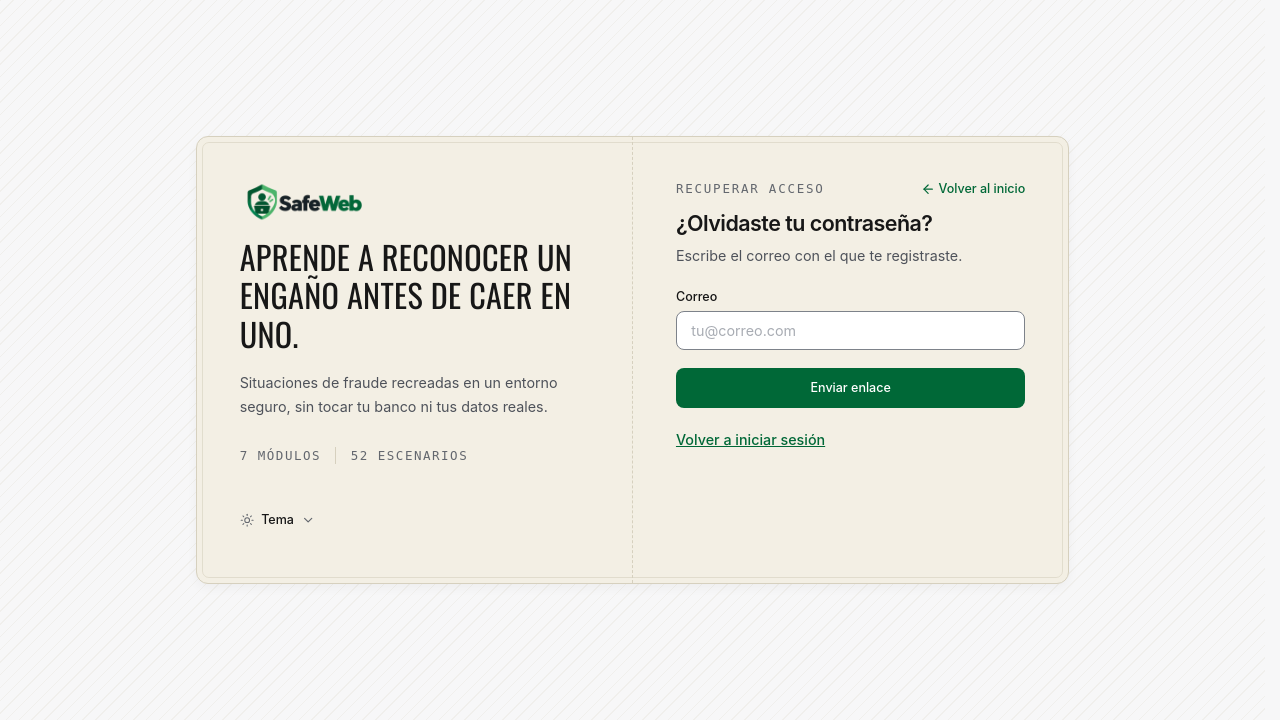
Scenario: OlvidePassword › pide el correo y, al enviarlo, muestra un mensaje genérico de confirmación
The image size is (1280, 720).
In the field labelled "Correo": coordinates (851, 331) [676,311,1025,350], type "ana@correo.com"
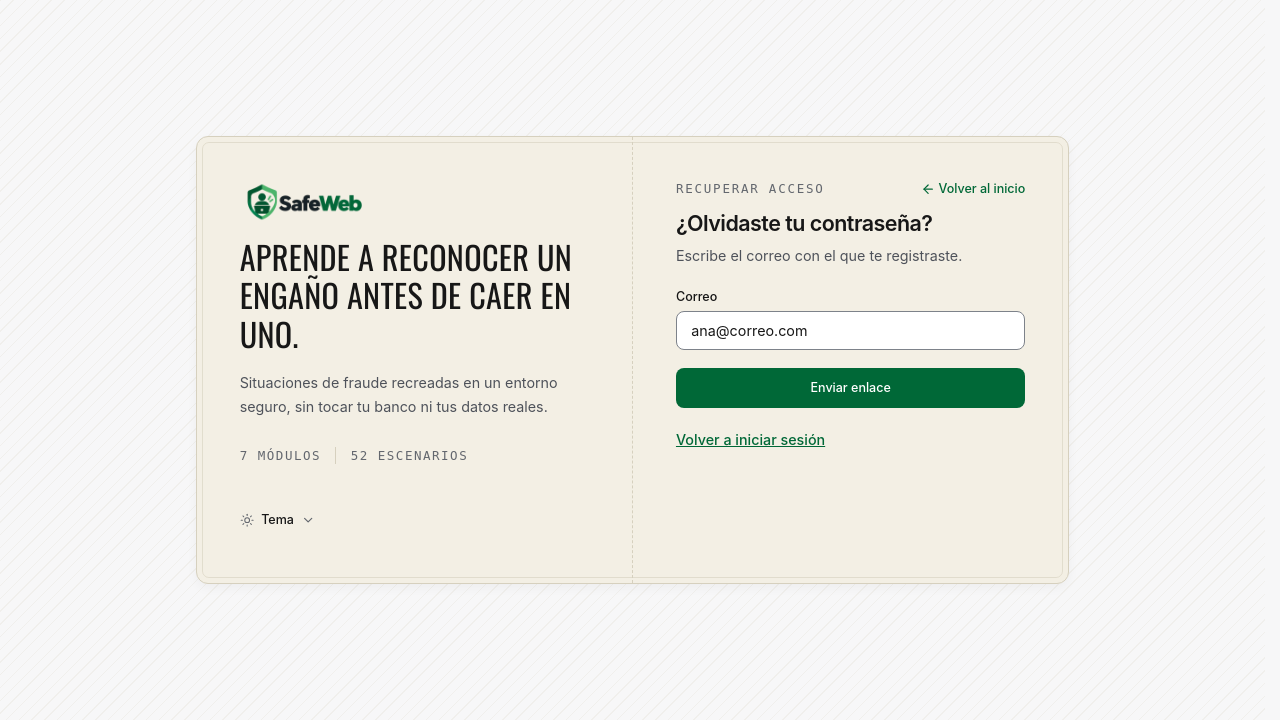
Click the button "Enviar enlace": coordinates (851, 388) [676,368,1025,408]
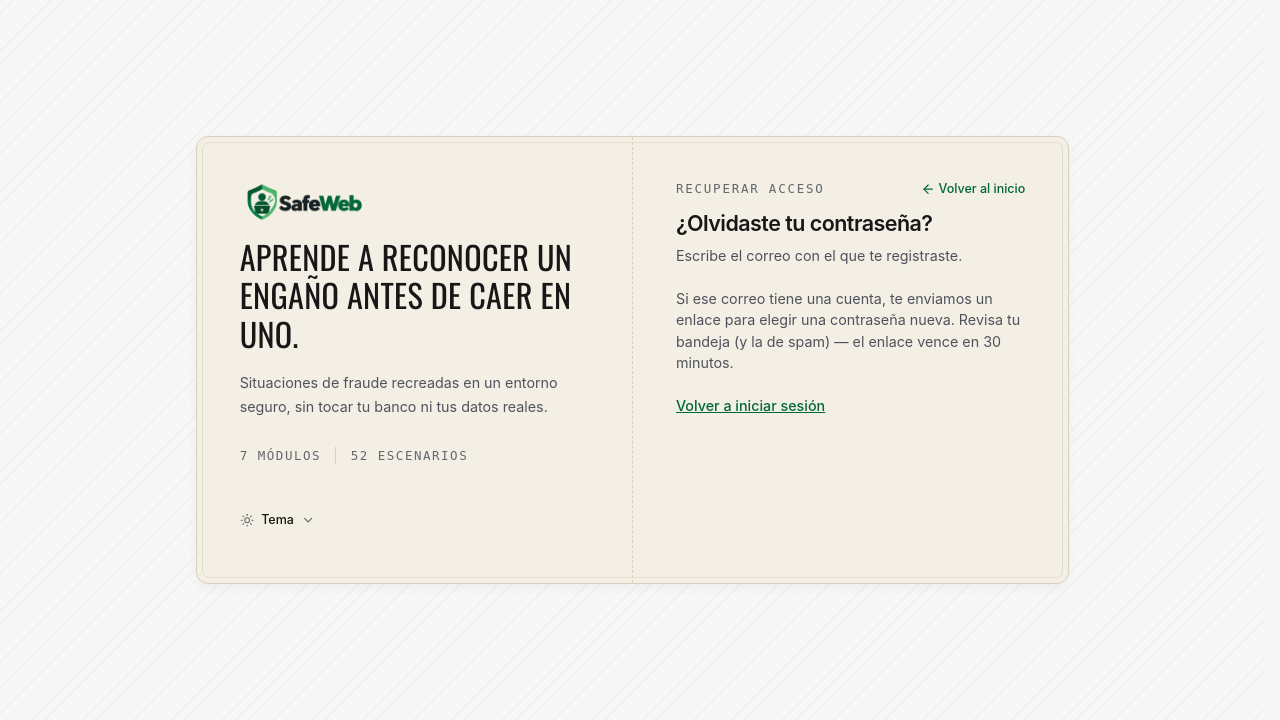
Now the text "Si ese correo tiene una cuenta" is shown, box [676,290,1020,371]
